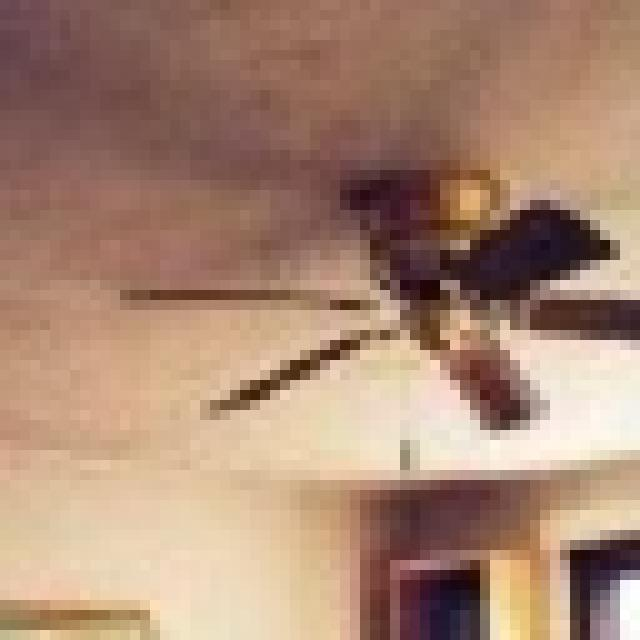Bulb: (105, 198, 640, 477)
